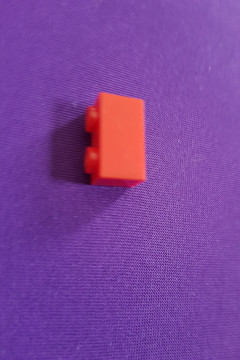1x2 red: (79, 91, 151, 187)
